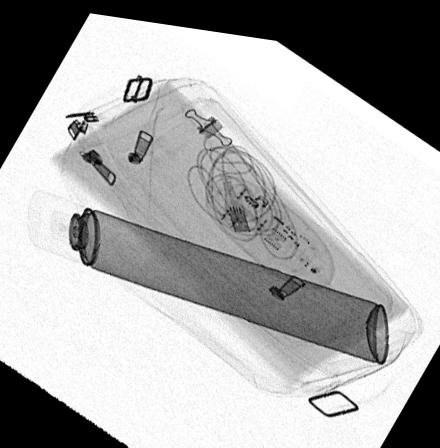Sprayer: (27, 191, 388, 353)
